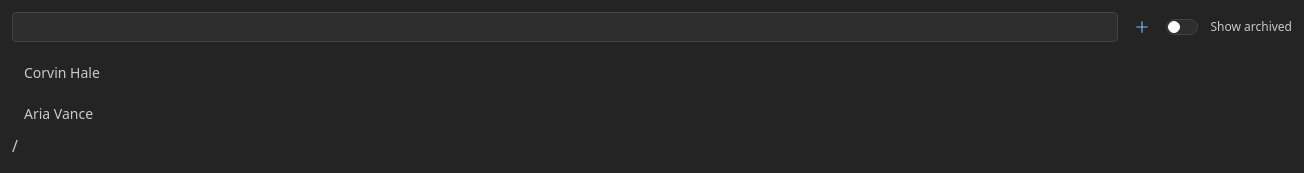
the header's two actions navigate in-entry (D13; 029 U4, US-118.AC-1) › (009 008 DoD-3, amended: Search was an icon button) typing mira and pressing Enter moves the in-entry router to /search with q decoding to mira — DoD-1
Type "mira" into the field named "search" at (565, 27), box [12,12,1118,42]
Then press Enter
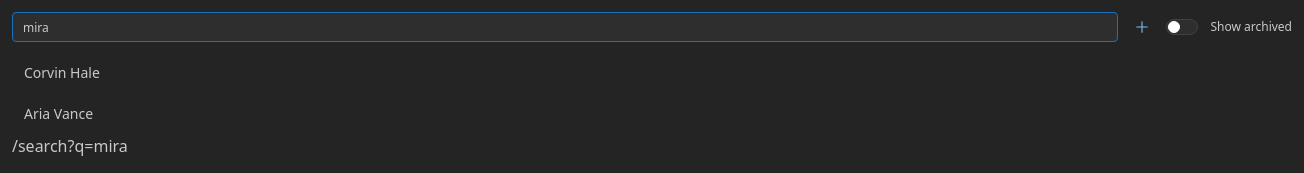
Check: the text with test id "probe-location" reads "/search", box [12,135,68,157]
